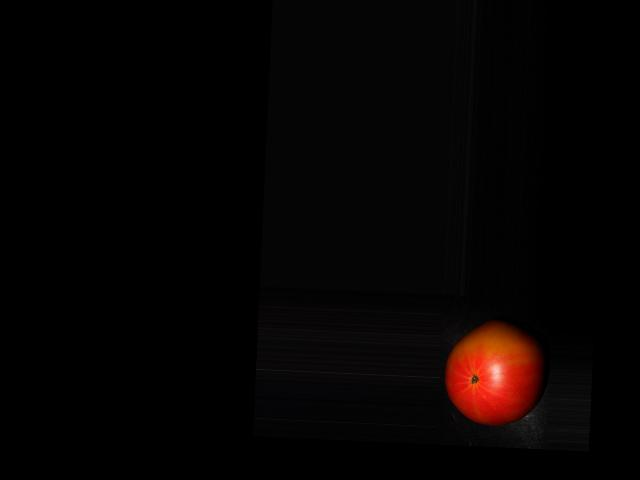tomato: (442, 318, 548, 427)
